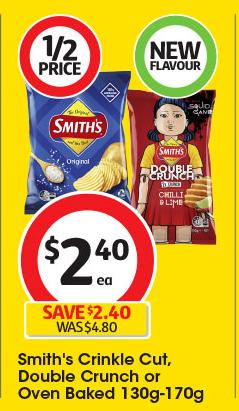description_block: (11, 348, 210, 406)
price_main: (19, 220, 159, 298)
product_image_block: (17, 86, 226, 220)
promo_text_block: (22, 301, 155, 340)
